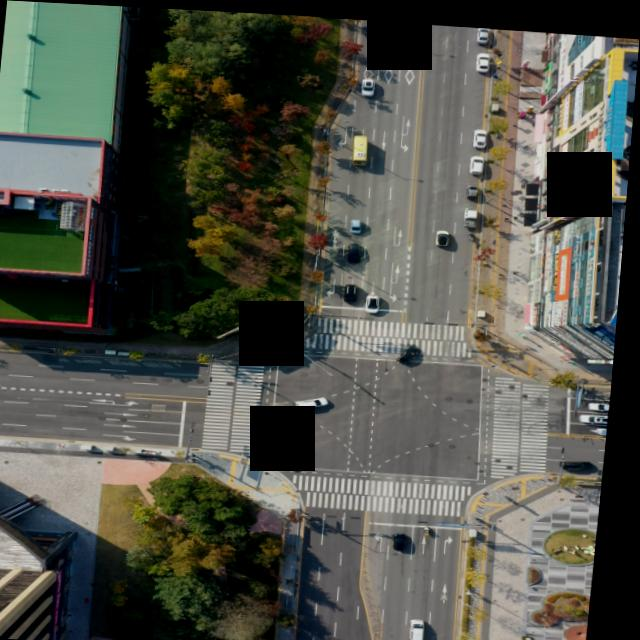car: (272, 452, 306, 468), (302, 392, 334, 407), (568, 452, 601, 465), (416, 614, 433, 636), (469, 151, 486, 171), (584, 407, 615, 417), (346, 241, 362, 260), (473, 125, 489, 143), (400, 529, 415, 548), (475, 49, 490, 68), (359, 75, 374, 93), (368, 292, 383, 309), (436, 226, 451, 242), (473, 23, 488, 39), (346, 282, 359, 300), (593, 395, 615, 404), (467, 181, 480, 196), (349, 217, 362, 231), (599, 420, 613, 429)
small_bus: (350, 131, 369, 162)
small_truck: (466, 201, 481, 222)
